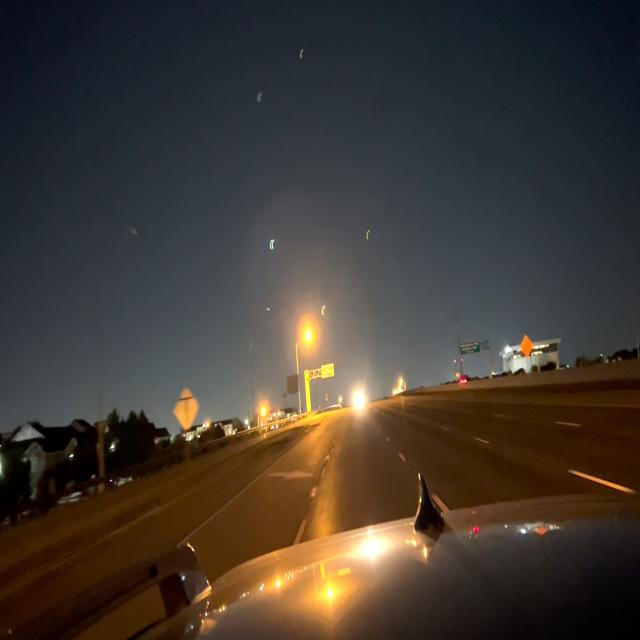back-of-sign: (174, 387, 200, 433)
